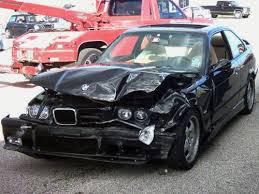Headlight-Damage: (123, 90, 178, 124), (8, 98, 60, 126)
bonnet-dent: (42, 62, 181, 98)
front-bumper-dent: (13, 120, 152, 163)
